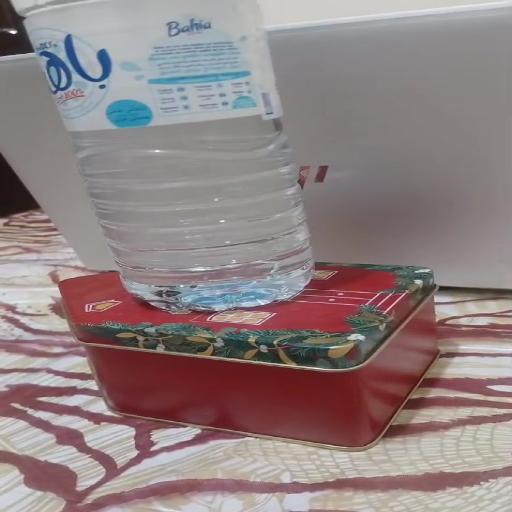bouteille non conformite: (22, 5, 336, 297)
